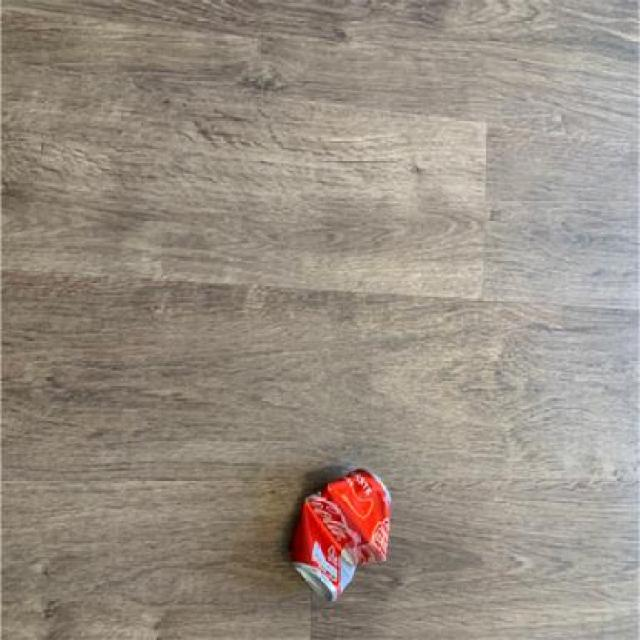Metal: (291, 465, 394, 602)
